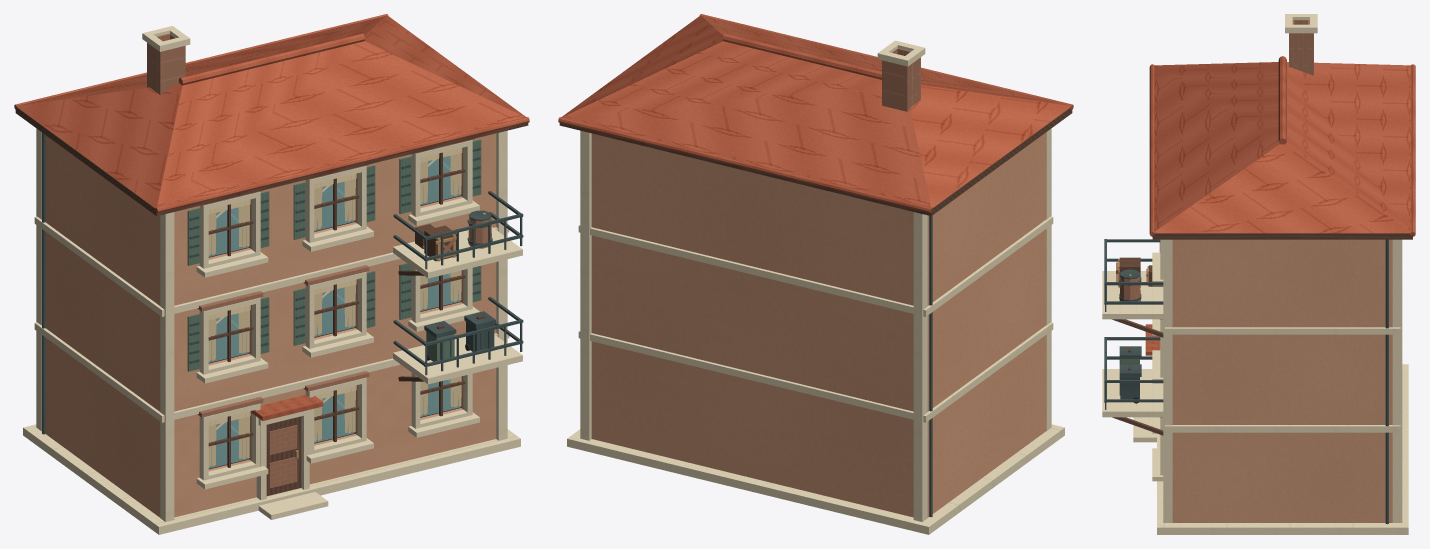
File: residential-3f.glb
3 renders of one model, left to right at view 1: azimuth 30°, elevation 25°; view 2: azimuth 150°, elevation 25°; view 3: azimuth 270°, elevation 25°, orthographic. The views are drawn at different scales.
Parts seen in each view (by area): view 1: building_shell, roof_chimney, balconies, win_4_frame, win_5_frame, win_8_frame, win_7_frame, win_9_frame, win_1_frame, win_6_frame, win_2_frame, door_main (+14 smaller); view 2: building_shell, roof_chimney; view 3: building_shell, roof_chimney, balconies, target_bin_ash, target_barrel, win_3_frame, win_6_frame, target_bin_green, win_9_frame, target_crate.
Boxes of the visible parts, x1=… form: building_shell: x1=23, y1=128, x2=520, y2=534; roof_chimney: x1=14, y1=14, x2=529, y2=216; balconies: x1=393, y1=191, x2=523, y2=384; win_4_frame: x1=187, y1=291, x2=269, y2=383; win_5_frame: x1=293, y1=265, x2=375, y2=357; win_8_frame: x1=293, y1=164, x2=375, y2=251; win_7_frame: x1=187, y1=190, x2=269, y2=277; win_9_frame: x1=399, y1=138, x2=481, y2=225; win_1_frame: x1=196, y1=396, x2=268, y2=489; win_6_frame: x1=399, y1=263, x2=481, y2=331; win_2_frame: x1=303, y1=371, x2=373, y2=463; door_main: x1=266, y1=416, x2=301, y2=496; building_shell: x1=567, y1=128, x2=1064, y2=534; roof_chimney: x1=558, y1=14, x2=1073, y2=216; building_shell: x1=1133, y1=239, x2=1408, y2=534; roof_chimney: x1=1149, y1=14, x2=1415, y2=239; balconies: x1=1102, y1=239, x2=1163, y2=435; target_bin_ash: x1=1119, y1=364, x2=1141, y2=403; target_barrel: x1=1119, y1=269, x2=1141, y2=301; win_3_frame: x1=1152, y1=417, x2=1163, y2=481; win_6_frame: x1=1152, y1=319, x2=1163, y2=383; target_bin_green: x1=1119, y1=346, x2=1141, y2=364; win_9_frame: x1=1152, y1=239, x2=1163, y2=285; target_crate: x1=1116, y1=257, x2=1140, y2=287.
Size of what is drawn, in the model's own units: 11.76 by 12.73 by 9.29.
1 material, 1 textured.
